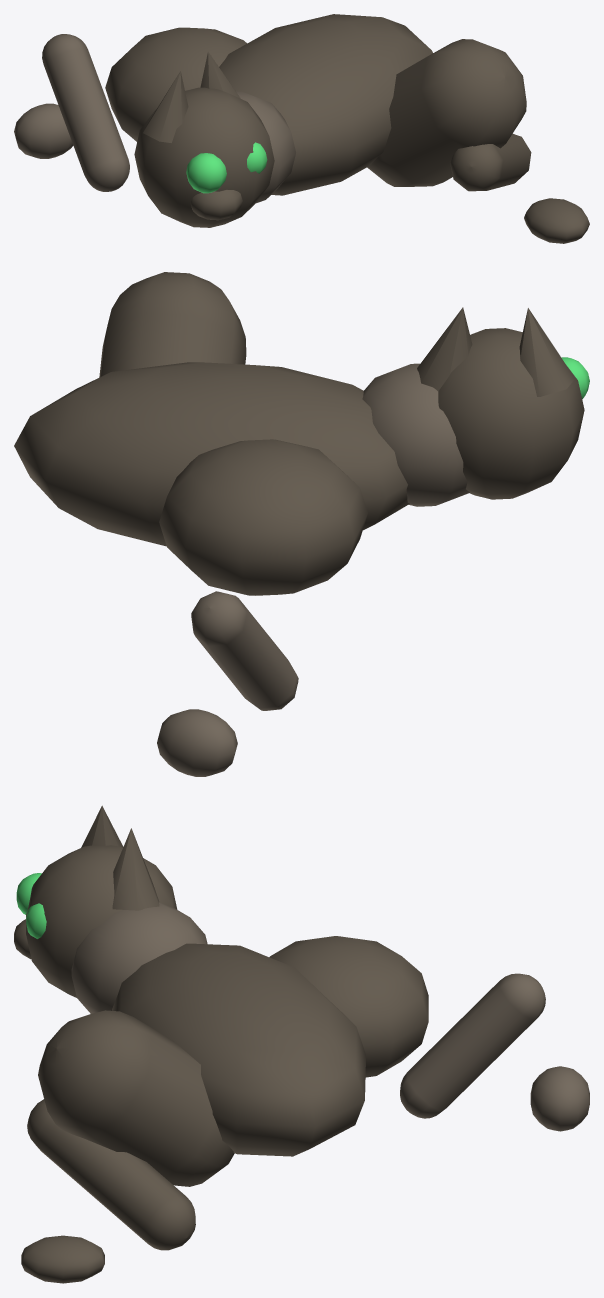
File: oni-draped.glb
3 renders of one model, top to bottom at view 1: azimuth 30°, elevation 25°; view 2: azimuth 150°, elevation 25°; view 3: azimuth 270°, elevation 25°, orthographic. The views are drawn at different scales.
Parts seen in each view (by area): view 1: coat, head, tailGeo, guardingPaw, ruff, eyes; view 2: coat, head, tailGeo, ruff; view 3: coat, guardingPaw, head, tailGeo, ruff, eyes.
Boxes of the visible parts, box(x1,y1,x2,y2) form: coat: box(105, 14, 526, 195); head: box(134, 51, 274, 227); tailGeo: box(14, 34, 129, 191); guardingPaw: box(450, 133, 589, 243); ruff: box(236, 91, 295, 203); eyes: box(186, 142, 267, 193); coat: box(14, 272, 409, 595); head: box(417, 307, 584, 499); tailGeo: box(157, 591, 298, 776); ruff: box(362, 363, 469, 506); coat: box(38, 936, 428, 1186); guardingPaw: box(21, 1099, 195, 1283); head: box(14, 805, 177, 997); tailGeo: box(400, 973, 589, 1131); ruff: box(71, 902, 207, 1013); eyes: box(16, 873, 46, 938).
Size of the model in its own units: 0.568 by 0.3212 by 0.5909.
